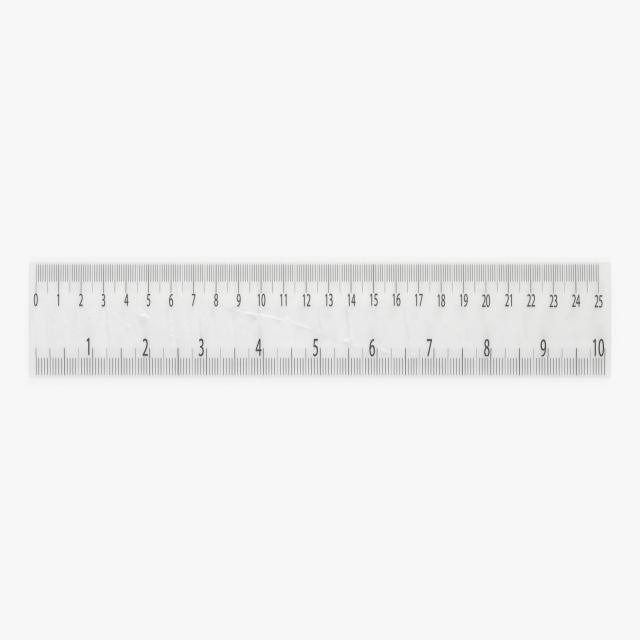scale: (29, 258, 611, 376)
